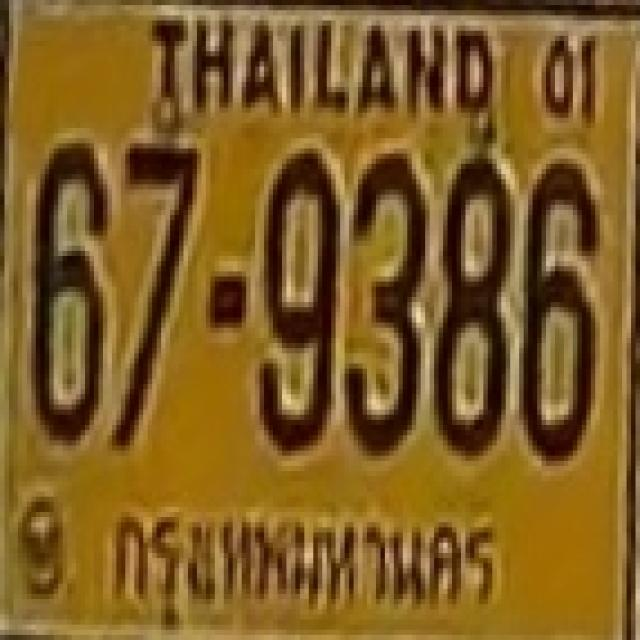0: (260, 146, 336, 340)
3: (340, 190, 421, 450), (340, 215, 421, 451)
7: (121, 141, 197, 310)
8: (430, 151, 506, 448)
9: (255, 225, 331, 446)
BKK: (101, 502, 517, 628)
